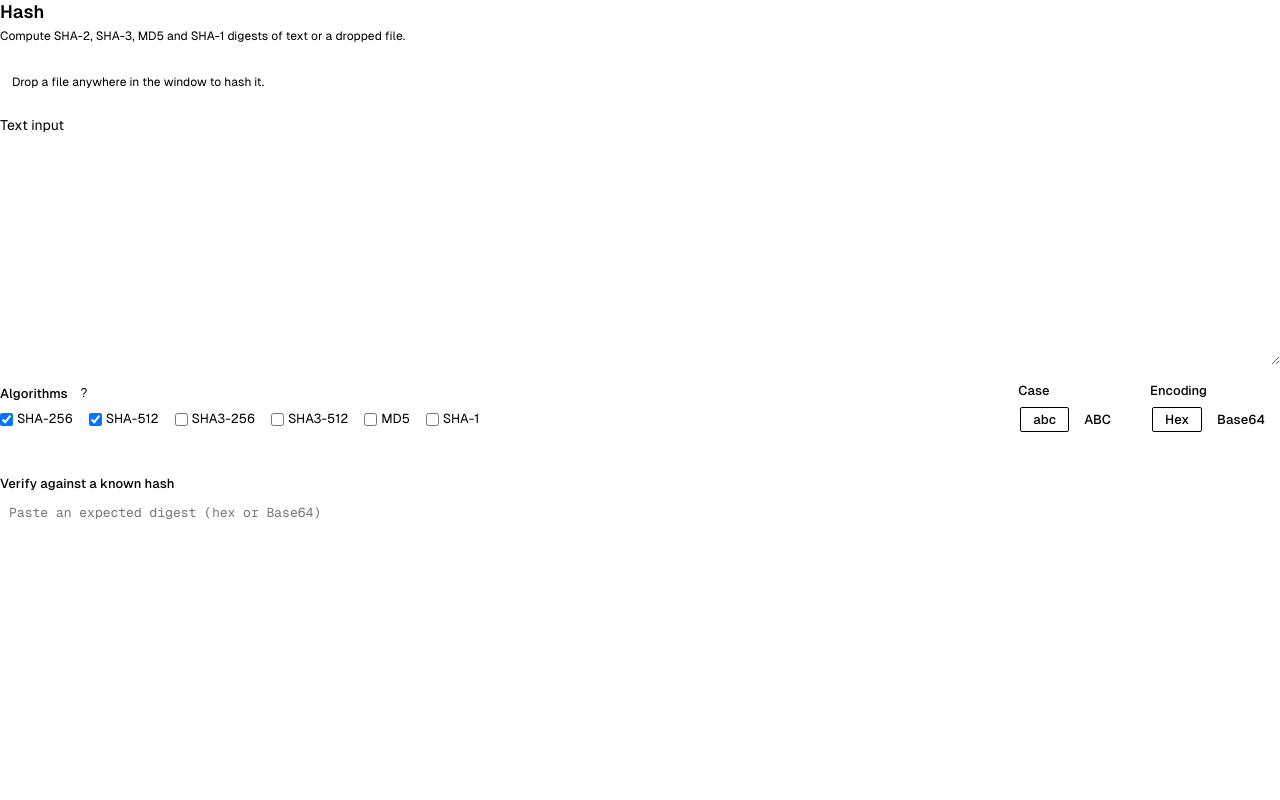
it: HashView › opens the not-collision-resistant explainer from the legend help dot (AC13)
Step 1. Click the button with class "help-dot" → (84, 393), box [72,381,96,405]
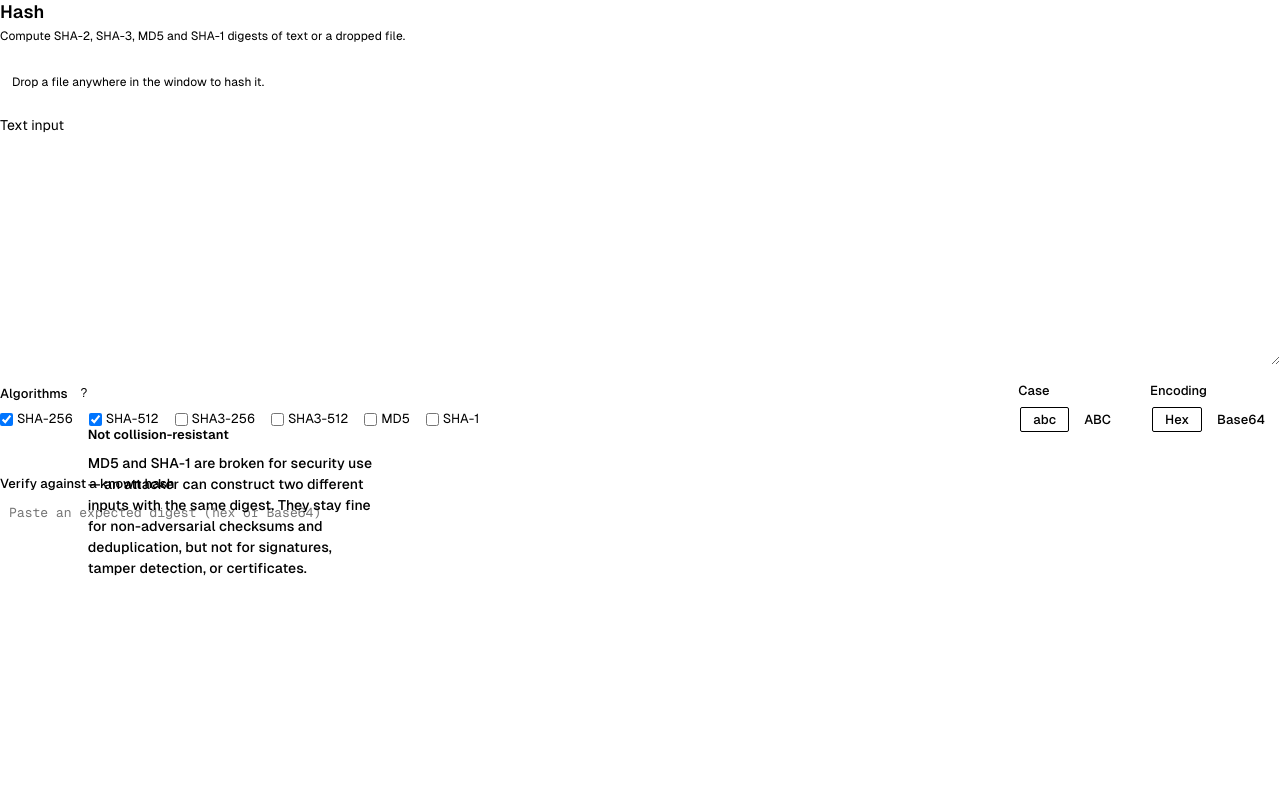
Result: the dialog is shown at [72,413,392,591]
Result: the dialog shows "collision" at [88,427,229,442]
